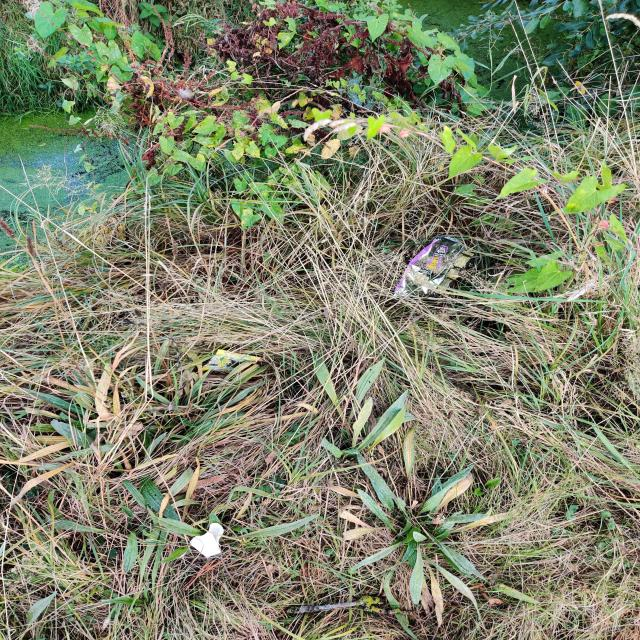litter: (374, 219, 499, 317), (177, 517, 241, 565)
